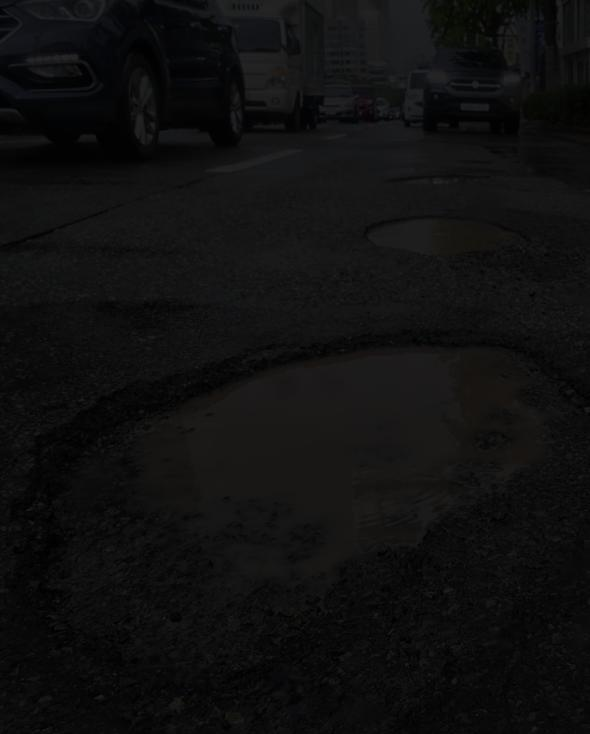pothole: (15, 314, 582, 646), (342, 208, 543, 284), (371, 161, 507, 192)
